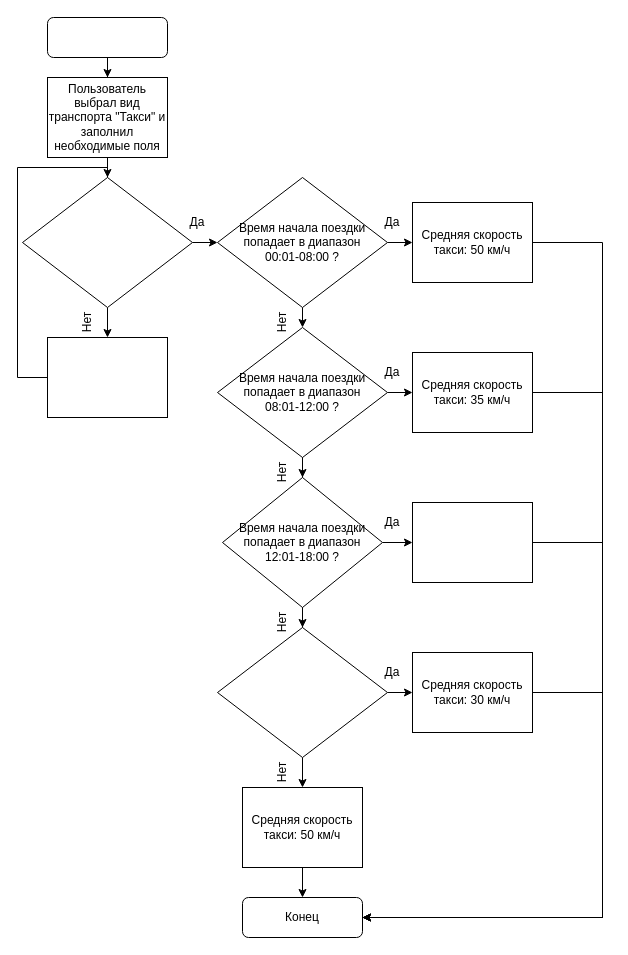
This 628x955 diagram has some shape labels left out. Here are the shapes that lost their labels. From the top down, the box of each, then its label:
(46, 16, 168, 58): Начало
(22, 176, 192, 308): Данные соответствуют ограничениям?
(46, 336, 168, 418): Сообщение об ошибке
(412, 502, 532, 582): Средняя скорость такси: 42 км/ч
(216, 626, 388, 758): Время начала поездки попадает в диапазон 18:01-22:00 ?
